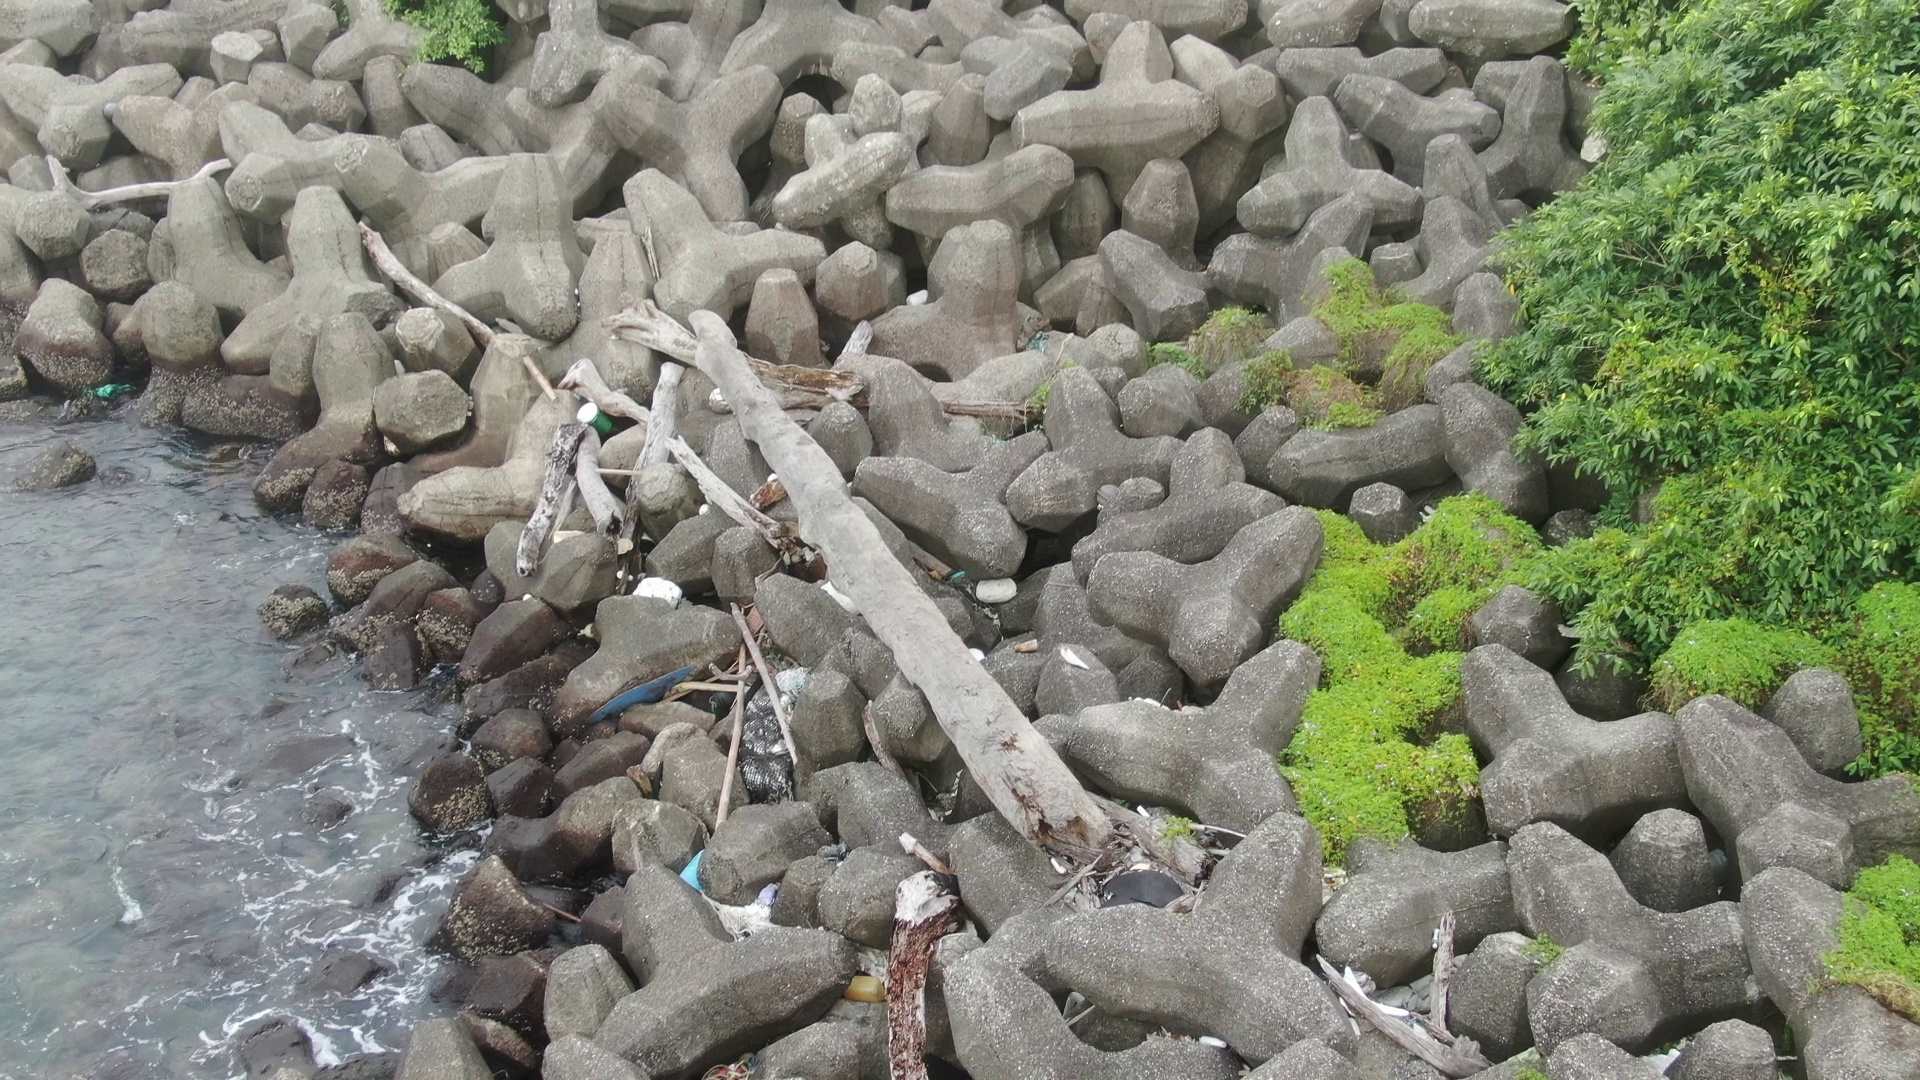garbage: (673, 845, 803, 945), (725, 663, 808, 799), (570, 655, 707, 729), (84, 367, 146, 417), (832, 965, 898, 1006), (628, 570, 694, 611), (709, 1044, 770, 1080), (968, 567, 1018, 607), (568, 397, 618, 433)
